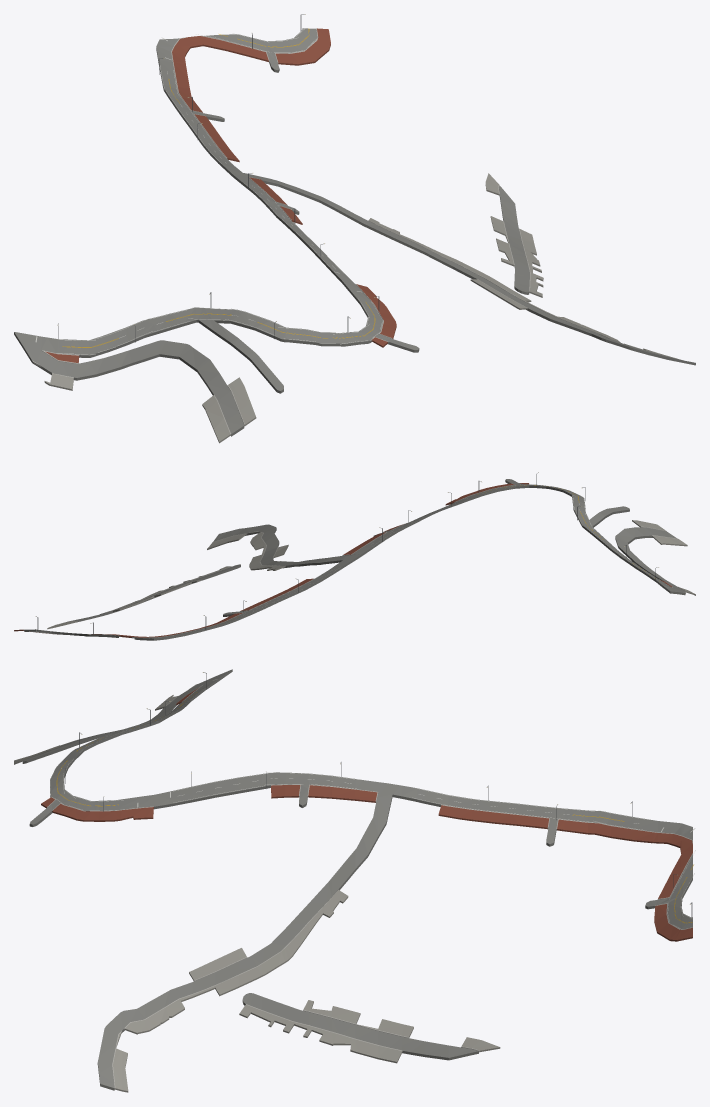
3 renders of one model, top to bottom at view 1: azimuth 30°, elevation 25°; view 2: azimuth 150°, elevation 25°; view 3: azimuth 270°, elevation 25°, orthographic. The views are drawn at different scales.
Size of the model in its own units: 293 by 84.89 by 293.
